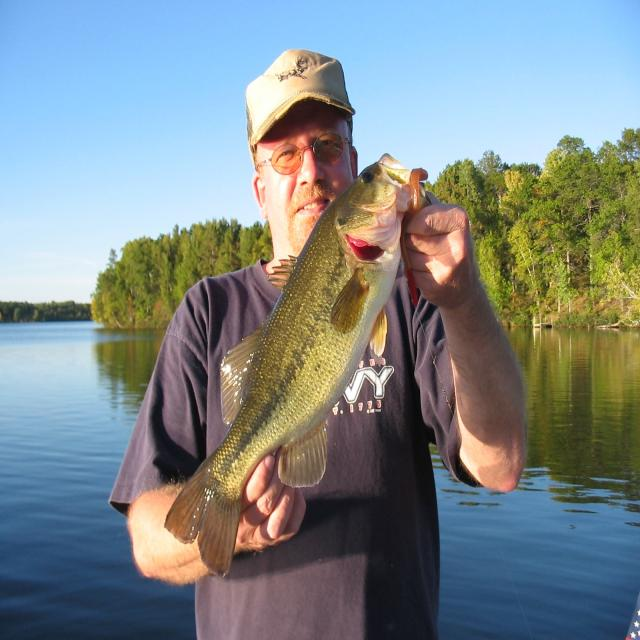Bass - Largemouth: (165, 154, 428, 577)
